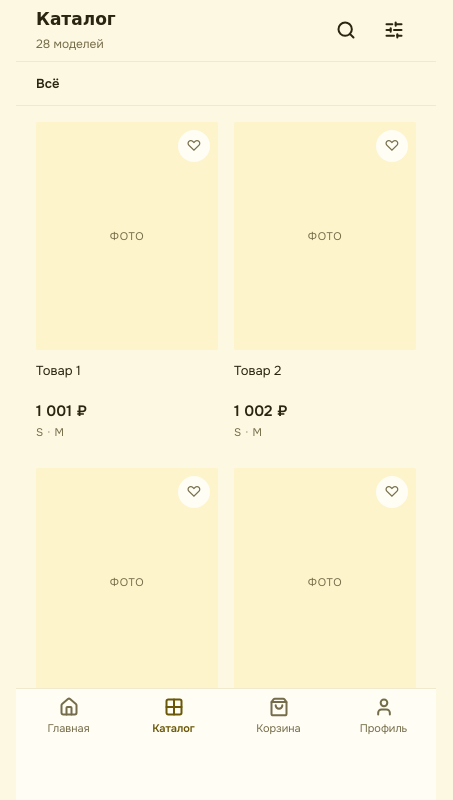
Test: CatalogScreen — поиск › очищает крестиком и поле, и выдачу
The image size is (453, 800).
Click the button named "Поиск": x=346, y=30 [324, 8, 368, 52]
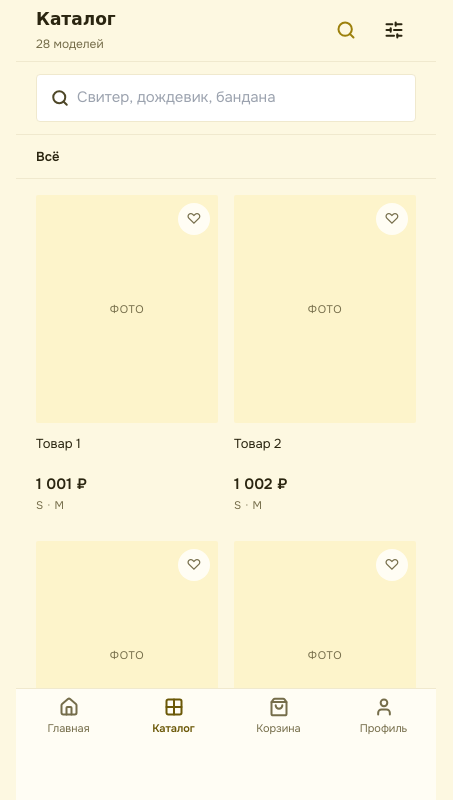
In the field with placeholder "Свитер, дождевик, бандана": x=239, y=98 [77, 86, 401, 109], type "свитер"
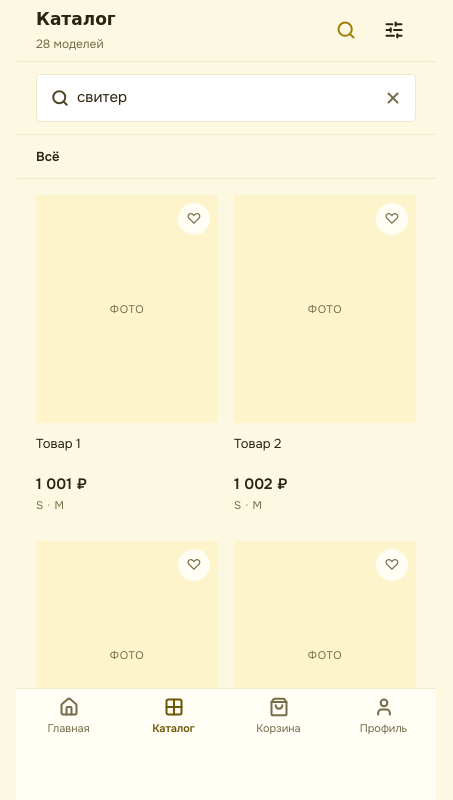
Click the button named "Очистить поиск": x=393, y=98 [371, 76, 415, 120]
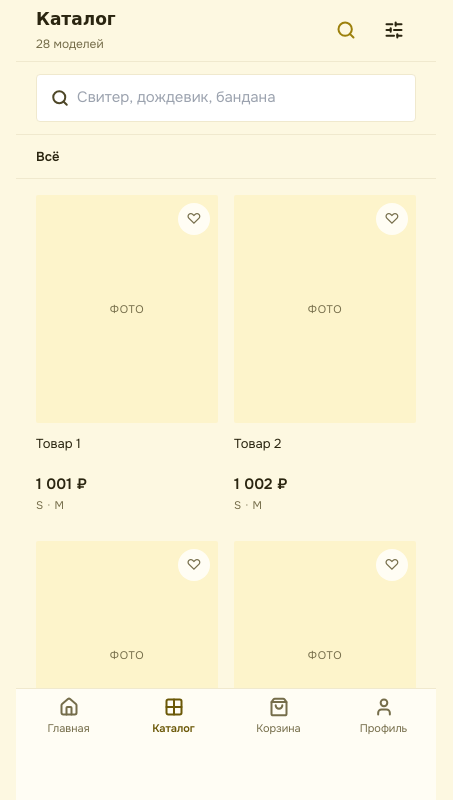
Check: the field with placeholder "Свитер, дождевик, бандана" is empty, box [77, 86, 401, 109]
